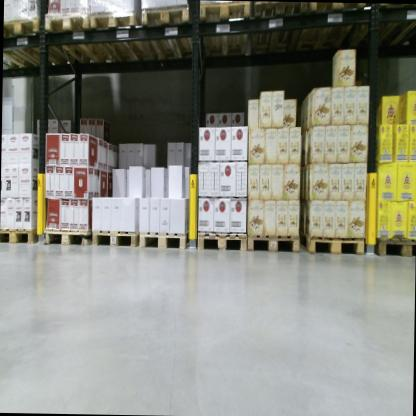pallet: (287, 2, 368, 67), (37, 4, 116, 69), (86, 8, 153, 71), (138, 1, 201, 67), (3, 16, 71, 73), (344, 3, 416, 55), (247, 1, 308, 62), (196, 3, 255, 63), (299, 228, 366, 259), (136, 226, 193, 252), (246, 228, 301, 253), (43, 224, 94, 248), (195, 229, 246, 252), (374, 233, 415, 257), (91, 230, 142, 247), (0, 226, 39, 246)
